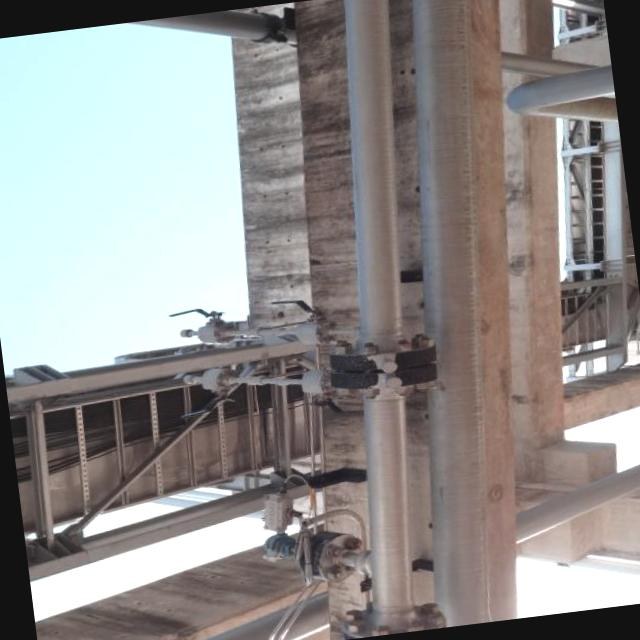gas: (348, 0, 554, 629), (264, 0, 459, 640), (506, 63, 618, 121), (114, 10, 292, 45)
